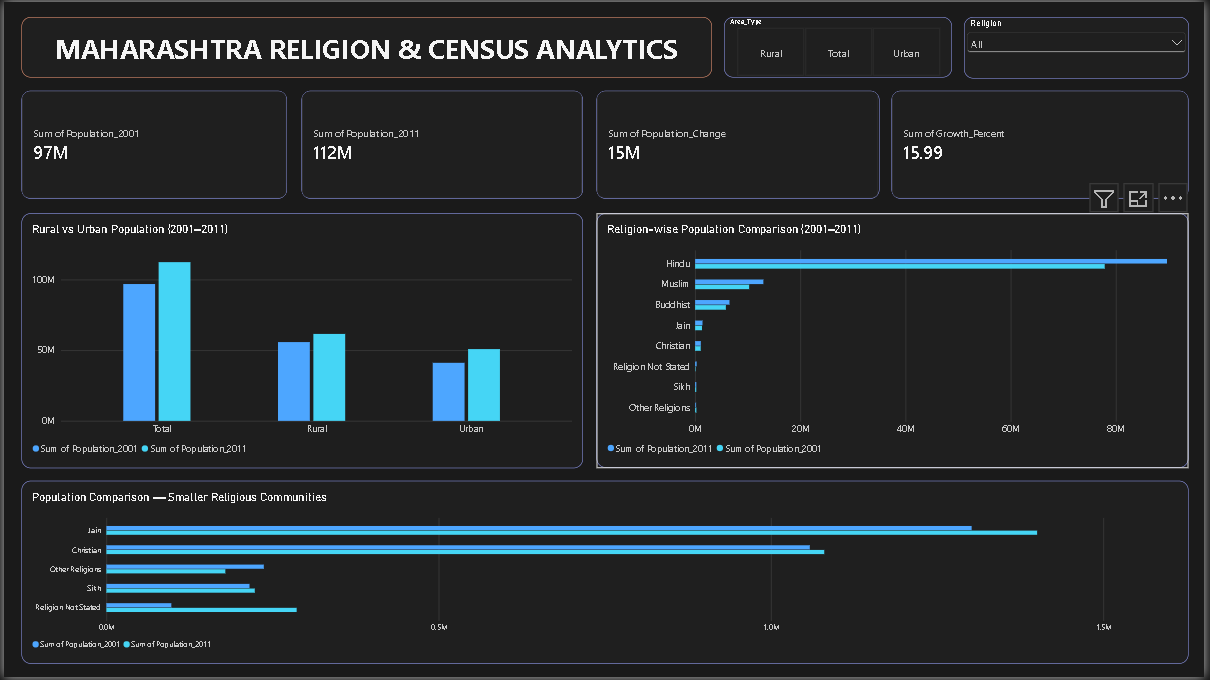

Layout of this report page (visuals, bound fields, positions):
{"tool":"powerbi","page":{"name":"Maharashtra Overview","canvas":[1920,1080],"ordinal":0},"visuals":[{"type":"cardVisual","fields":{"Data":["Sum(maharashtra_population_comparison.Population_2001)"]},"box":[27.5,142.5,425,172.5],"z":0},{"type":"cardVisual","fields":{"Data":["Sum(maharashtra_population_comparison.Population_Change)","Sum(maharashtra_population_comparison.Population_Change)"]},"box":[947.5,142.5,452.5,172.5],"z":1000},{"type":"cardVisual","fields":{"Data":["Sum(maharashtra_population_comparison.Population_2011)"]},"box":[475,142.5,450,172.5],"z":2000},{"type":"cardVisual","fields":{"Data":["Sum(maharashtra_population_comparison.Growth_Percent)","Sum(maharashtra_population_comparison.Growth_Percent)"]},"box":[1420,142.5,475,172.5],"z":3000},{"type":"clusteredColumnChart","title":"Rural vs Urban Population (2001–2011)","fields":{"Category":["maharashtra_population_comparison.Area_Type"],"Y":["Sum(maharashtra_population_comparison.Population_2001)","Sum(maharashtra_population_comparison.Population_2011)"]},"box":[28,338,898,408],"z":4000},{"type":"clusteredBarChart","title":"Religion-wise Population Comparison (2001–2011)","fields":{"Category":["religion_comparison_2001_2011.Religion"],"Y":["Sum(religion_comparison_2001_2011.Population_2011)","Sum(religion_comparison_2001_2011.Population_2001)"]},"box":[947.5,337.5,947.5,407.5],"z":5000},{"type":"clusteredBarChart","title":"Population Comparison — Smaller Religious Communities","fields":{"Category":["religion_comparison_2001_2011.Religion"],"Y":["Sum(religion_comparison_2001_2011.Population_2001)","Sum(religion_comparison_2001_2011.Population_2011)"]},"box":[27.5,765,1867.5,292.5],"z":6000},{"type":"textbox","box":[28.3,23.3,1105,96.7],"z":7000},{"type":"slicer","fields":{"Values":["maharashtra_population_comparison.Area_Type"]},"box":[1151.7,23.3,366.7,100],"z":8000},{"type":"slicer","fields":{"Values":["religion_comparison_2001_2011.Religion"]},"box":[1535,23.3,360,98.3],"z":9000}]}

Visuals, with their boxes in screenshot pixels (x1, y1, x2, y2), scaled from the page's 1920x1080 canvas onto the 1210x680 screenshot:
cardVisual - Sum(maharashtra_population_comparison.Population_2001): box(17, 90, 285, 198)
cardVisual - Sum(maharashtra_population_comparison.Population_Change) x Sum(maharashtra_population_comparison.Population_Change): box(597, 90, 882, 198)
cardVisual - Sum(maharashtra_population_comparison.Population_2011): box(299, 90, 583, 198)
cardVisual - Sum(maharashtra_population_comparison.Growth_Percent) x Sum(maharashtra_population_comparison.Growth_Percent): box(895, 90, 1194, 198)
"Rural vs Urban Population (2001–2011)" clusteredColumnChart: box(18, 213, 584, 470)
"Religion-wise Population Comparison (2001–2011)" clusteredBarChart: box(597, 212, 1194, 469)
"Population Comparison — Smaller Religious Communities" clusteredBarChart: box(17, 482, 1194, 666)
textbox: box(18, 15, 714, 76)
slicer - maharashtra_population_comparison.Area_Type: box(726, 15, 957, 78)
slicer - religion_comparison_2001_2011.Religion: box(967, 15, 1194, 77)
